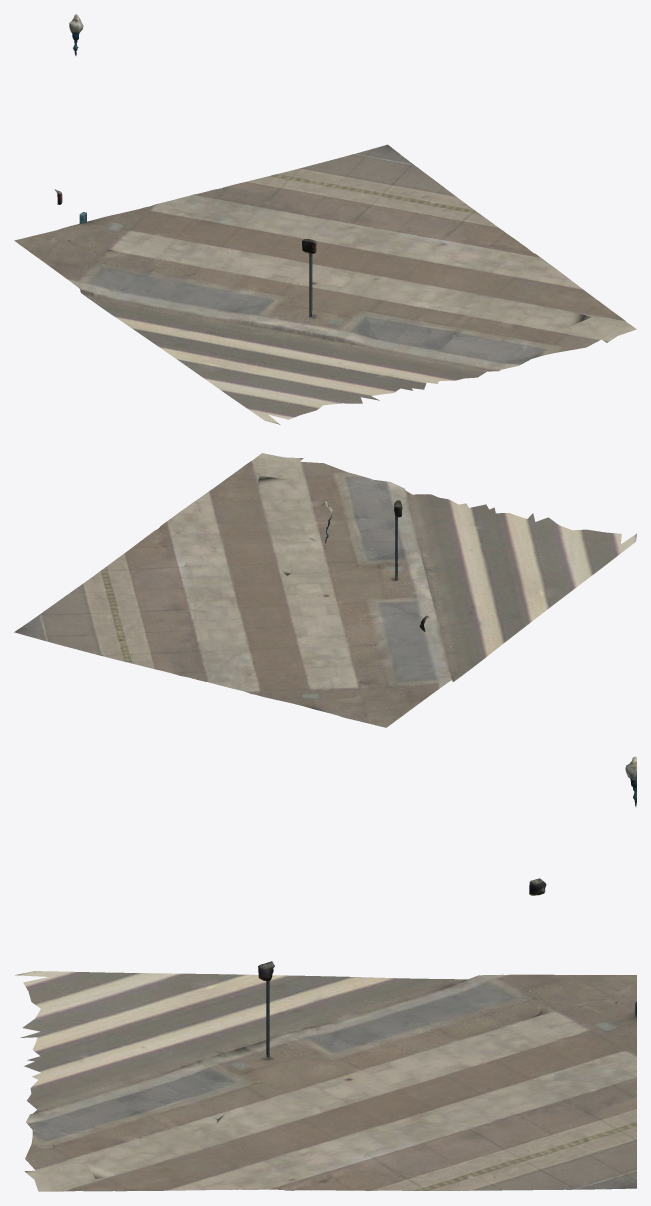
The picture shows the model from 3 angles, top to bottom: view 1: azimuth 30°, elevation 25°; view 2: azimuth 150°, elevation 25°; view 3: azimuth 270°, elevation 25°; orthographic projection. The views are drawn at different scales.
Bounding box in the file's own units: 13.2 × 7.29 × 15.86.
1 material, 1 textured.
